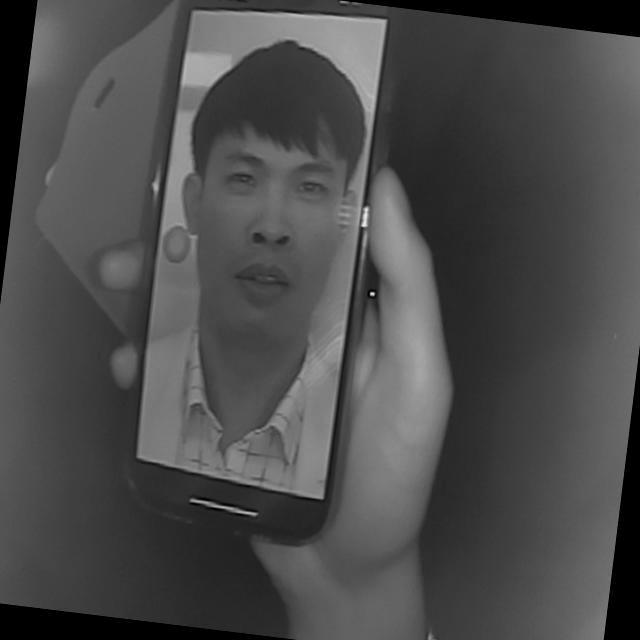fake: (104, 0, 408, 557)
